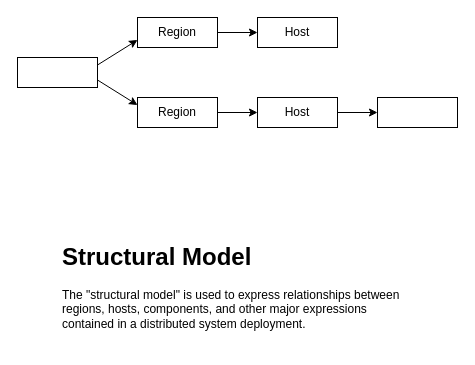
This 475x365 diagram has some shape labels left out. Here are the shapes that lost their labels. From the top down, the centre of each, then its label:
(x=57, y=72): Model
(x=417, y=112): Component
